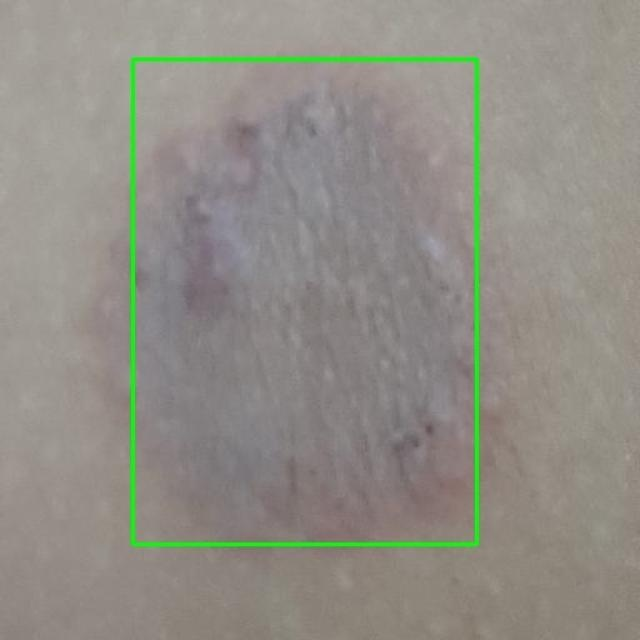Eczema: (132, 59, 478, 545)
